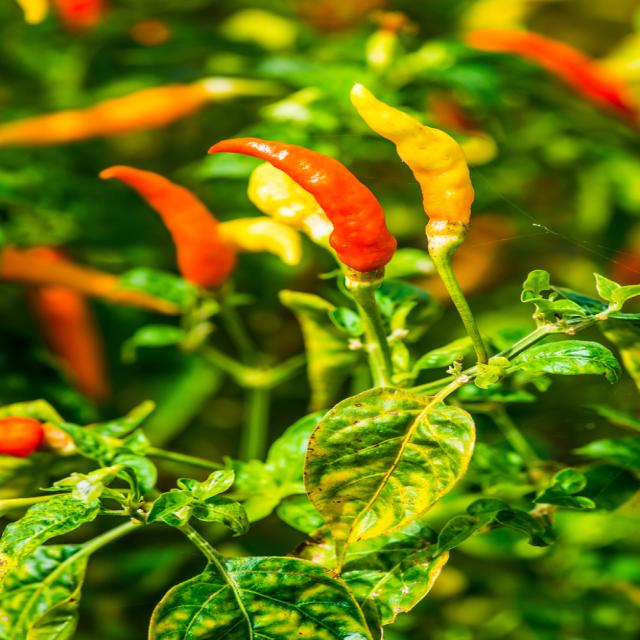Ripe: (208, 138, 395, 272), (99, 165, 236, 288), (0, 416, 43, 457)
Unripe: (351, 84, 473, 222), (249, 162, 325, 228), (217, 216, 302, 264)
